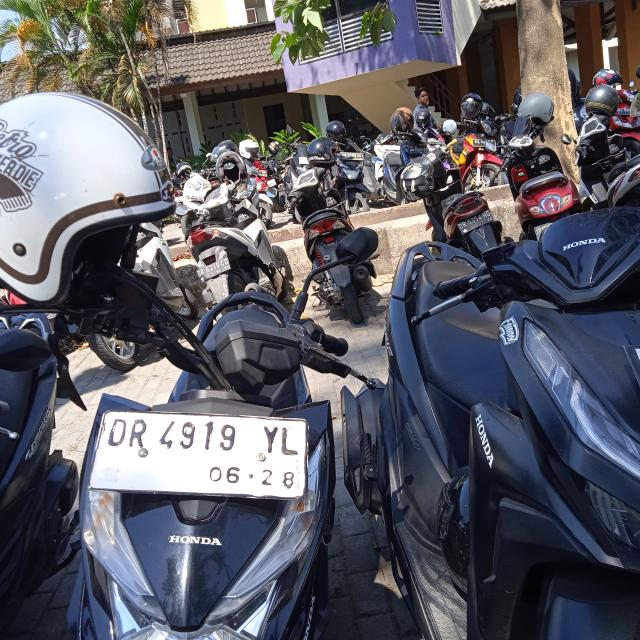plate: (90, 409, 310, 498), (458, 209, 494, 236), (197, 257, 231, 283)
